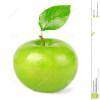Apple leaf: (37, 3, 72, 34)
